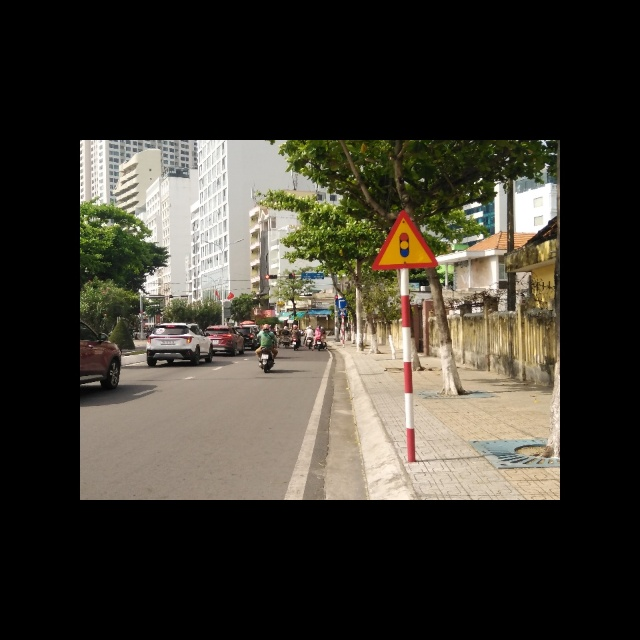Giao nhau có tín hiệu đèn: (371, 205, 440, 270)
